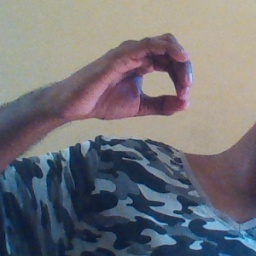O: (70, 26, 197, 129)
